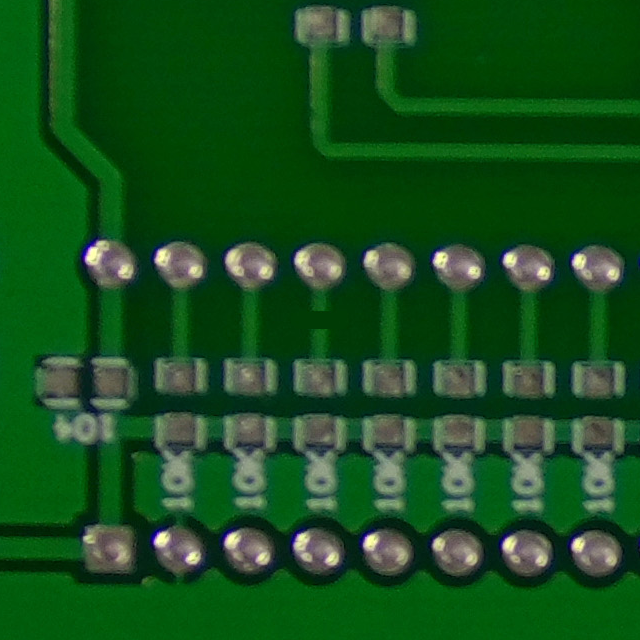open_circuit: (299, 301, 341, 340)
